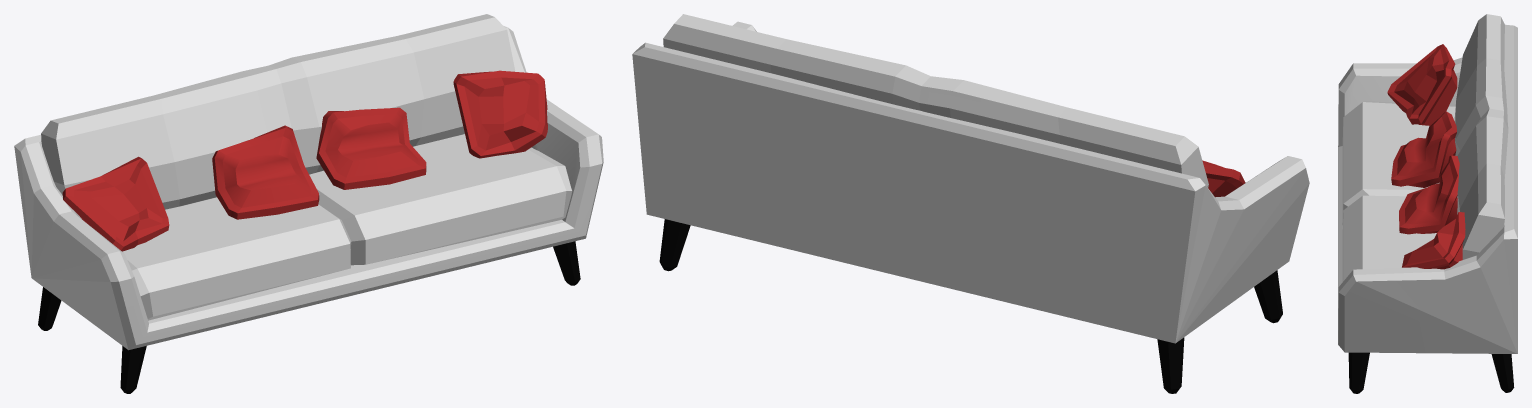
Rendered from Couch_02.fbx.
3 views of the same model, side by side, from view 1: azimuth 30°, elevation 25°; view 2: azimuth 150°, elevation 25°; view 3: azimuth 270°, elevation 25° (orthographic). The views are drawn at different scales.
Visible parts, largest first — view 1: SM_Prop_Couch_03, SM_Prop_Couch_Pillows_01.003, SM_Prop_Couch_Pillows_01.002, SM_Prop_Couch_Pillows_01.001, SM_Prop_Couch_Pillows_01.004; view 2: SM_Prop_Couch_03, SM_Prop_Couch_Pillows_01.004; view 3: SM_Prop_Couch_03, SM_Prop_Couch_Pillows_01.004, SM_Prop_Couch_Pillows_01.003, SM_Prop_Couch_Pillows_01.002, SM_Prop_Couch_Pillows_01.001.
Part boxes in pixels (box(x1,y1,x2,y2)): SM_Prop_Couch_03: box(14, 14, 603, 393); SM_Prop_Couch_Pillows_01.003: box(212, 125, 319, 219); SM_Prop_Couch_Pillows_01.002: box(316, 107, 426, 189); SM_Prop_Couch_Pillows_01.001: box(453, 70, 547, 158); SM_Prop_Couch_Pillows_01.004: box(62, 156, 169, 251); SM_Prop_Couch_03: box(632, 14, 1309, 393); SM_Prop_Couch_Pillows_01.004: box(1202, 160, 1245, 197); SM_Prop_Couch_03: box(1338, 14, 1517, 393); SM_Prop_Couch_Pillows_01.004: box(1387, 44, 1457, 125); SM_Prop_Couch_Pillows_01.003: box(1391, 111, 1456, 187); SM_Prop_Couch_Pillows_01.002: box(1399, 155, 1459, 234); SM_Prop_Couch_Pillows_01.001: box(1402, 212, 1465, 269).
Bounding box in the file's own units: 230 × 95.16 × 80.83.
